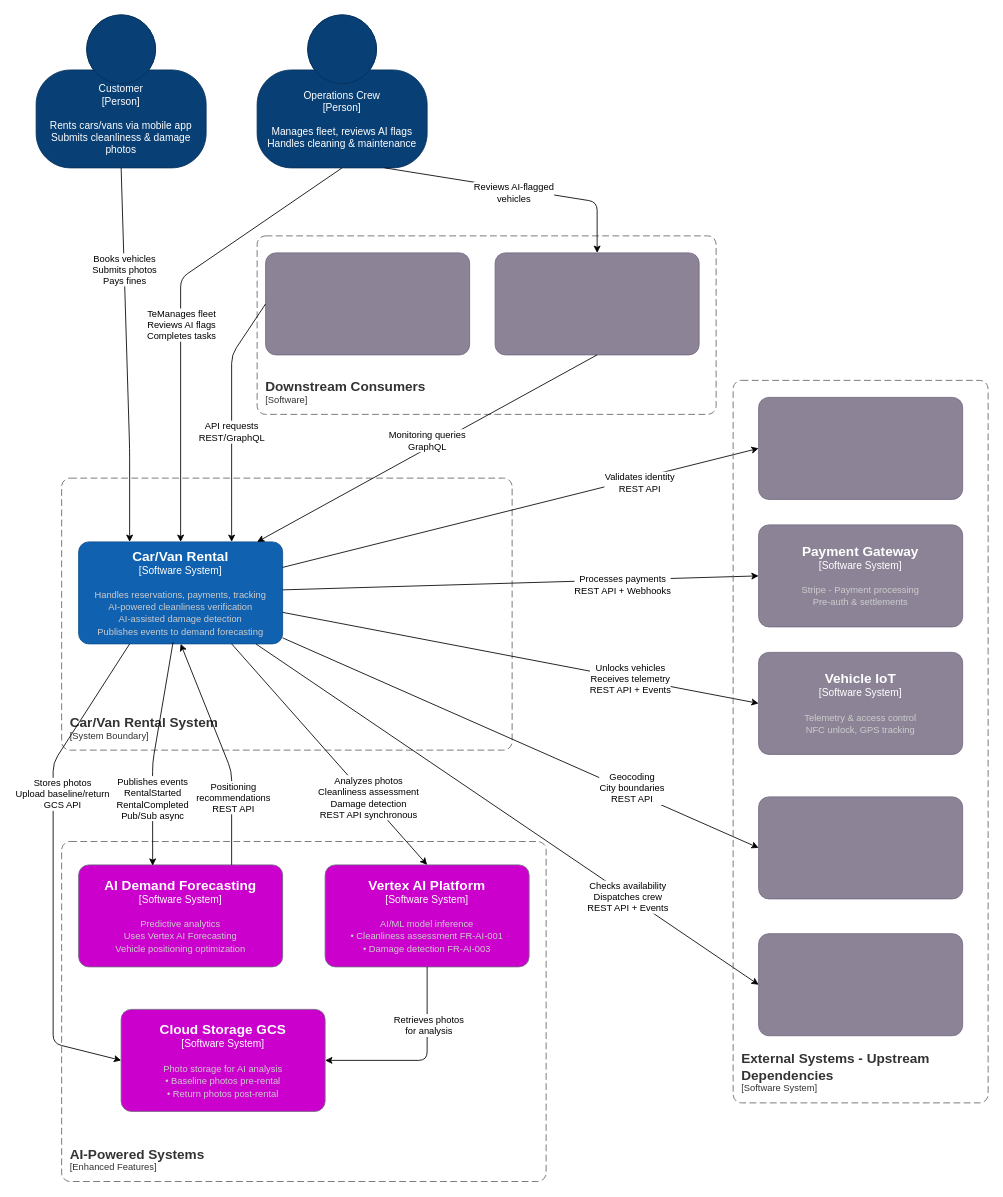
This 1003x1197 diagram has some shape labels left out. Here are the shapes that lost their labels. From the top down, the centre of each, then its label:
[367,303]: Mobile App [Software System] iOS/Android Customer interface
[596,303]: Admin Dashboard [Software System] Operations monitoring AI flag review
[860,448]: Consumer Management [Software System] Identity & KYC verification
[860,847]: Google Maps [Software System] Routing & geocoding City boundary validation
[860,984]: Fleet Management [Software System] Vehicle inventory Crew dispatch & task mgmt
